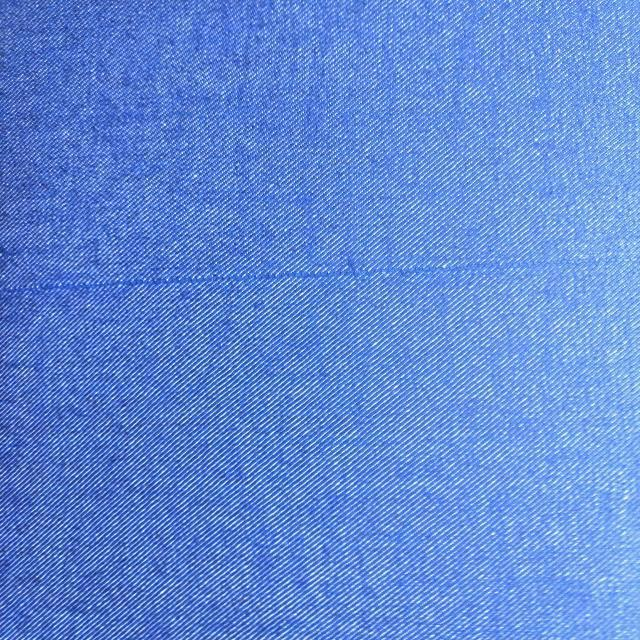Line: (2, 245, 635, 297)
